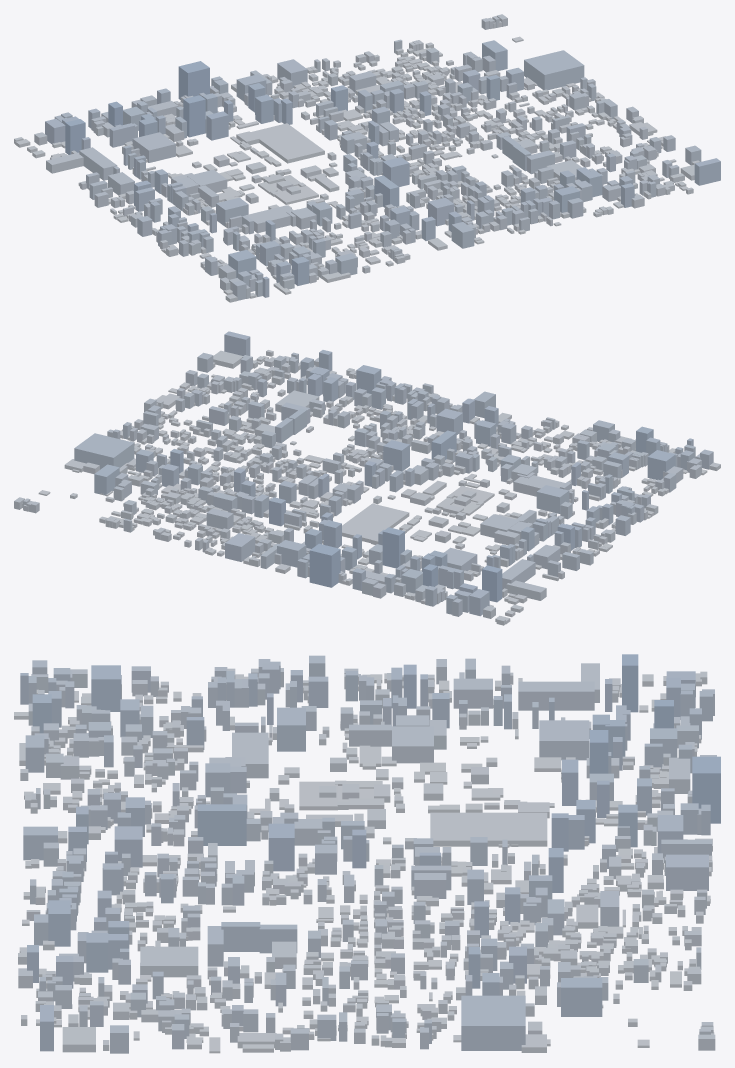
3 renders of one model, top to bottom at view 1: azimuth 30°, elevation 25°; view 2: azimuth 150°, elevation 25°; view 3: azimuth 270°, elevation 25°, orthographic. The views are drawn at different scales.
Size of the model in its own units: 1171 by 76.23 by 927.
